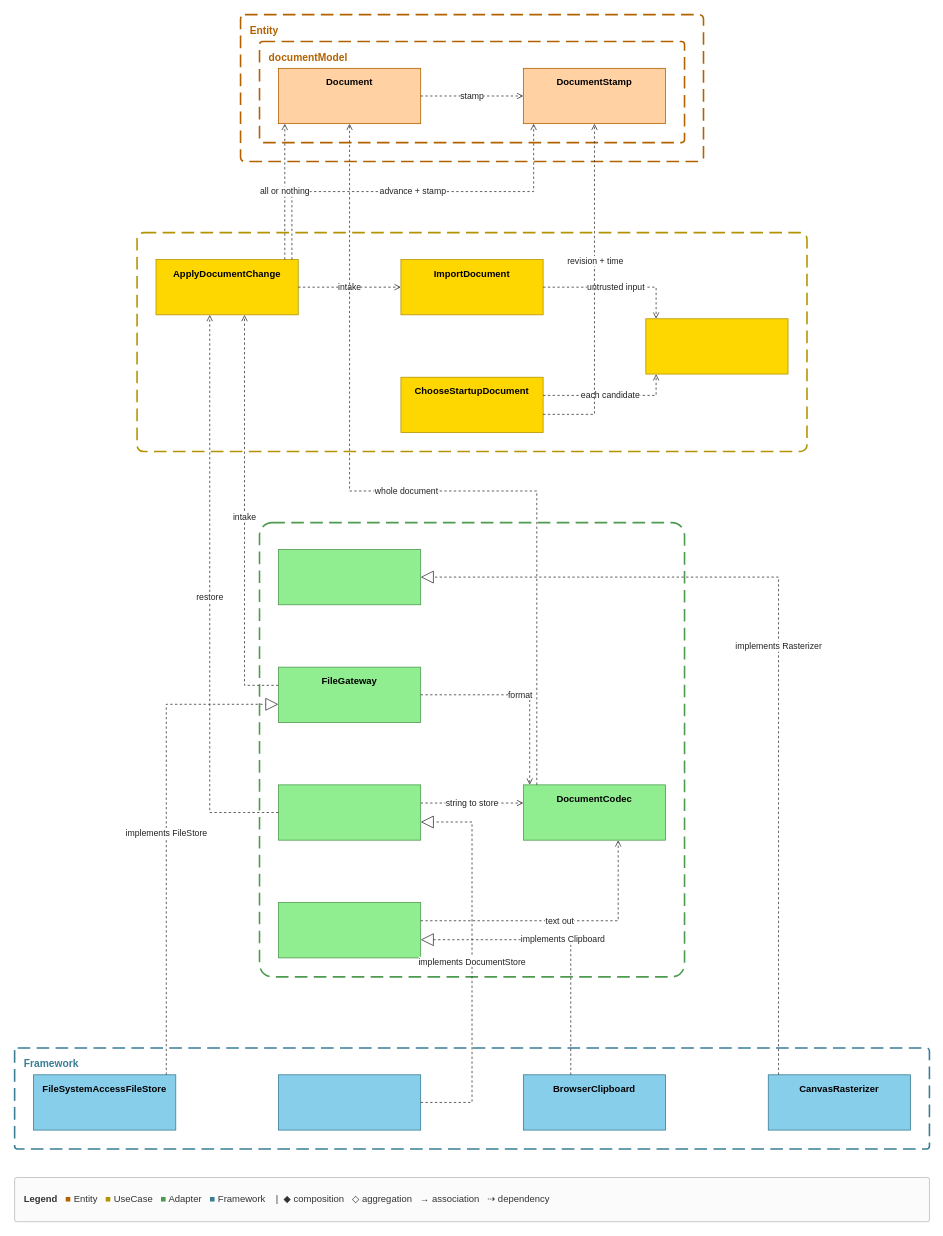
Image size: 943x1236. Some labels were removed from this diagram. Here are the shapes that lost their labels. From the top down, the box of each, then its label:
(136, 231, 807, 452): UseCase
(645, 318, 788, 374): ValidateImportedDocument
(278, 549, 421, 605): ImageExporter
(258, 521, 685, 977): Adapter
(278, 784, 421, 840): AutosaveGateway
(278, 902, 421, 958): ClipboardGateway
(278, 1074, 421, 1130): LocalStorageDocumentStore
